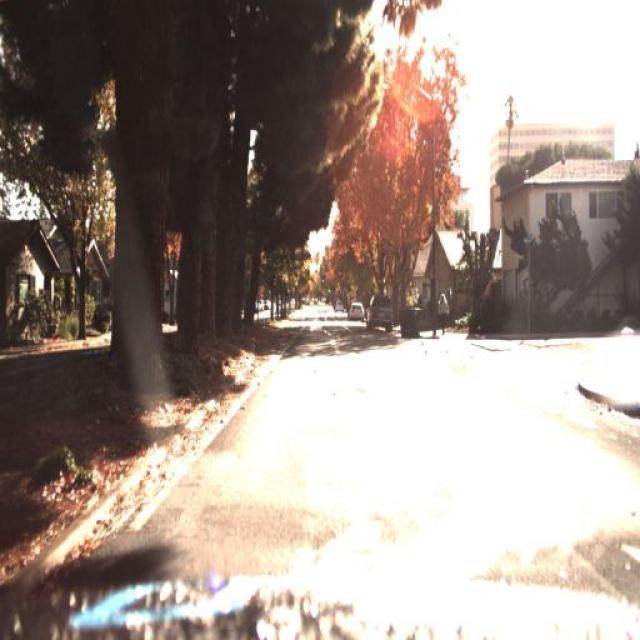car: (361, 288, 397, 336), (347, 293, 368, 328), (344, 296, 364, 322)
trafficLight: (436, 286, 452, 336), (435, 289, 453, 330)
